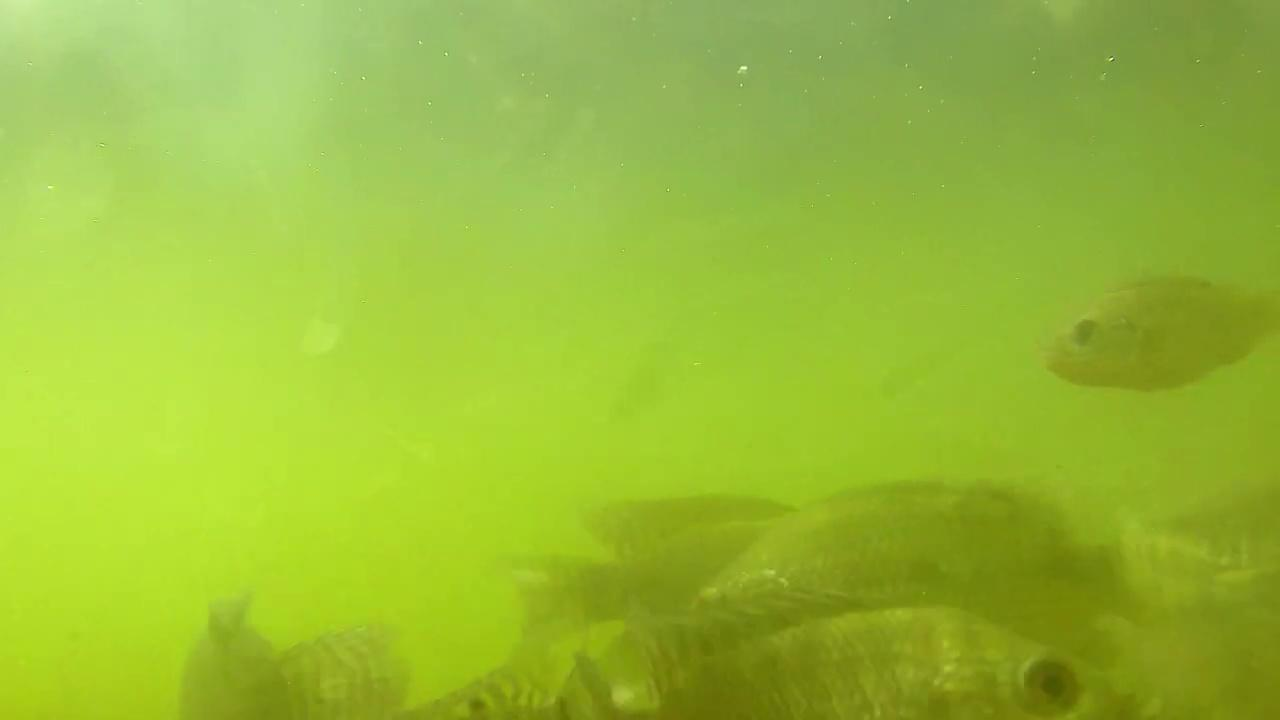Tilapia: (541, 584, 1138, 720), (1043, 260, 1280, 446)
